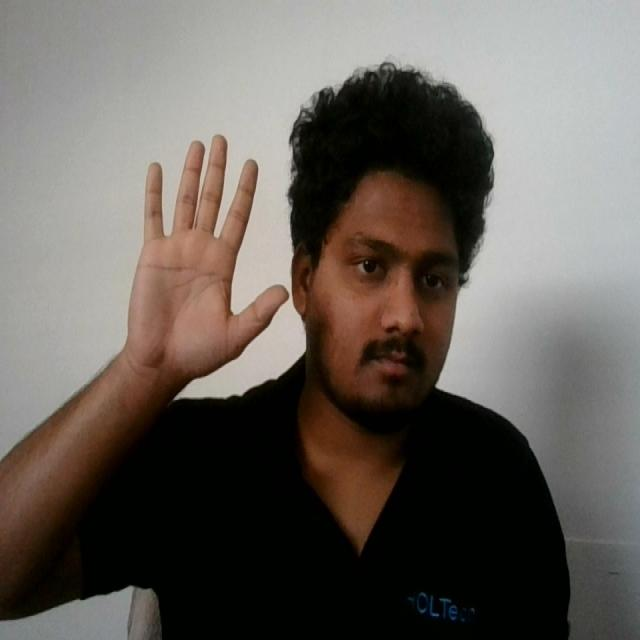Hello: (117, 127, 296, 392)
